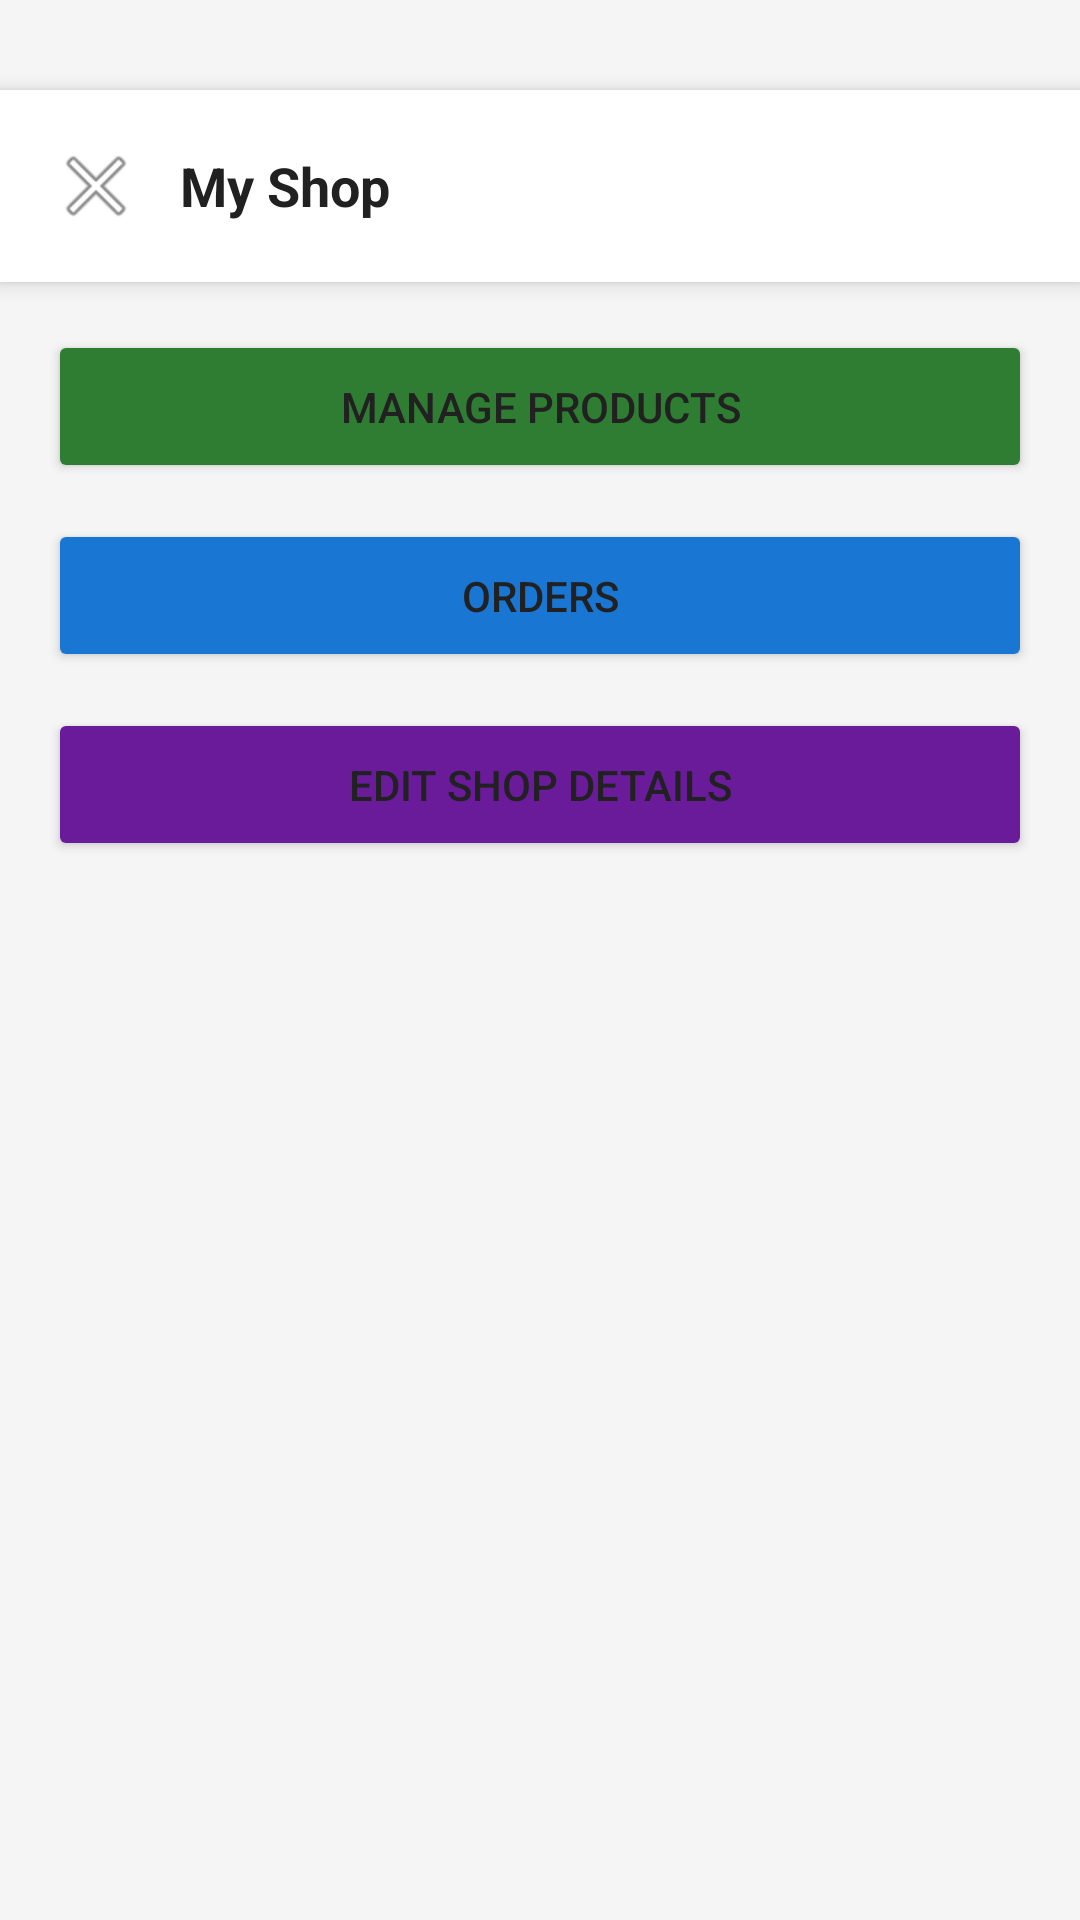

Icons on this 1080px x 1920px Android screen, each with the point to tap as (x,y):
close clear cancel: (96,186)
